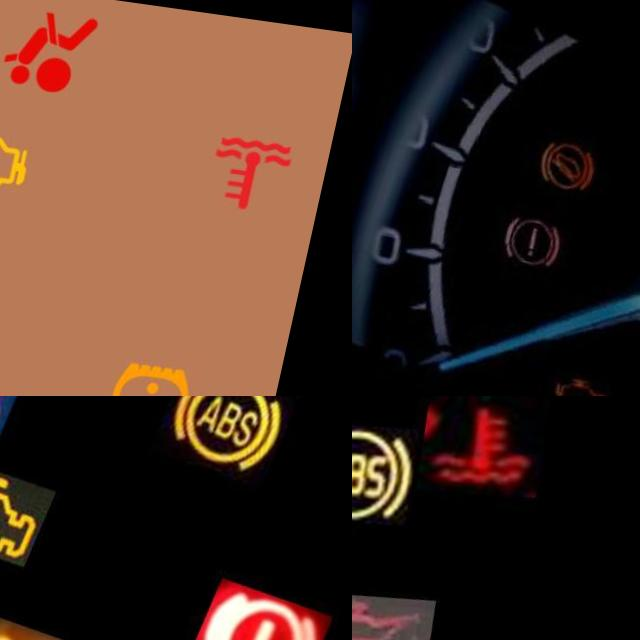Engine cooling system: (416, 396, 560, 490)
High Engine Coolant Temperature: (196, 101, 316, 215)
